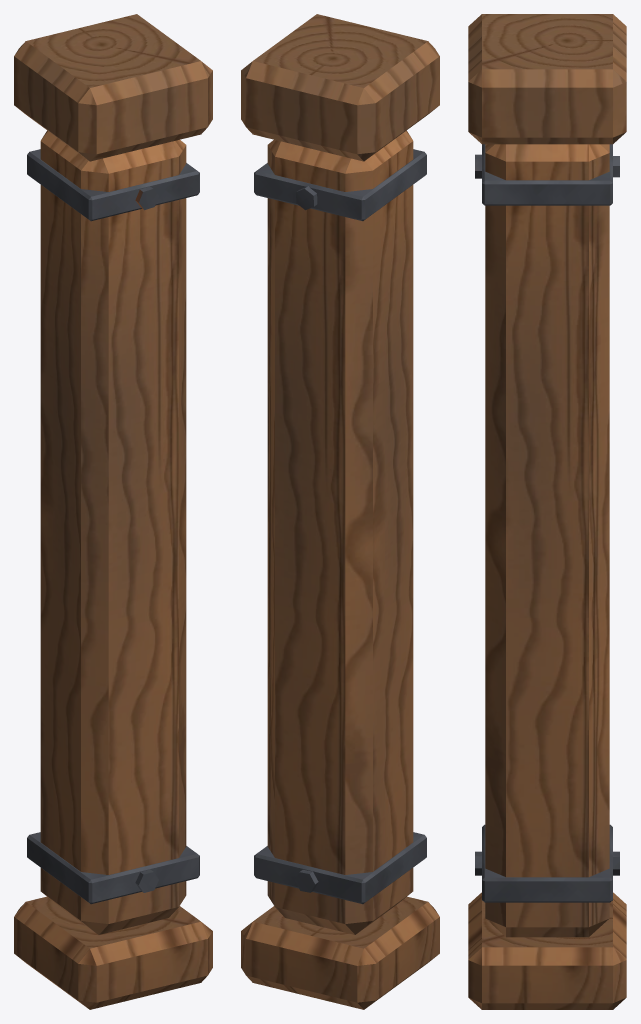
File: sutun.glb
3 views of the same model, side by side, from view 1: azimuth 30°, elevation 25°; view 2: azimuth 150°, elevation 25°; view 3: azimuth 270°, elevation 25° (orthographic). The views are drawn at different scales.
Visible parts, largest first — view 1: sutun; view 2: sutun; view 3: sutun.
Boxes of the visible parts, bbox=[...] form: sutun: bbox=[14, 14, 212, 1009]; sutun: bbox=[241, 14, 439, 1009]; sutun: bbox=[468, 14, 626, 1009].
Size of the model in its own units: 0.46 by 3.01 by 0.46.
1 material, 1 textured.
